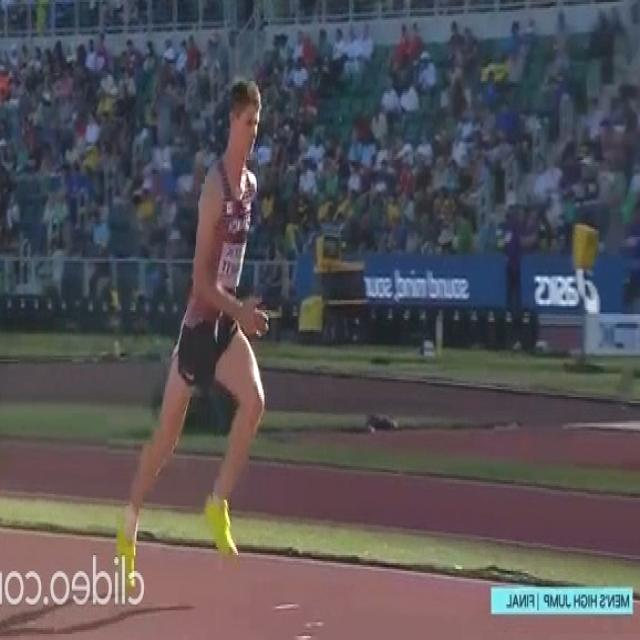run: (113, 67, 275, 583)
